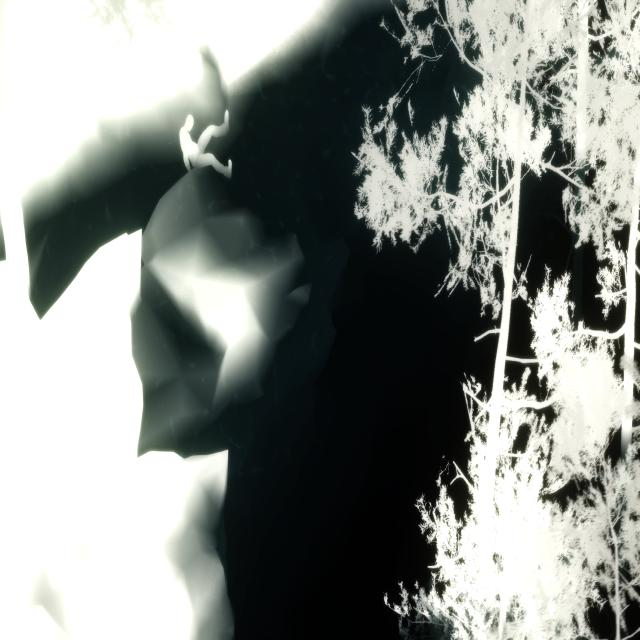Human: (177, 98, 236, 182)
